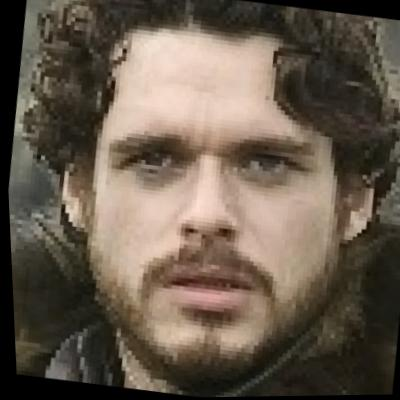angry: (66, 34, 354, 373)
